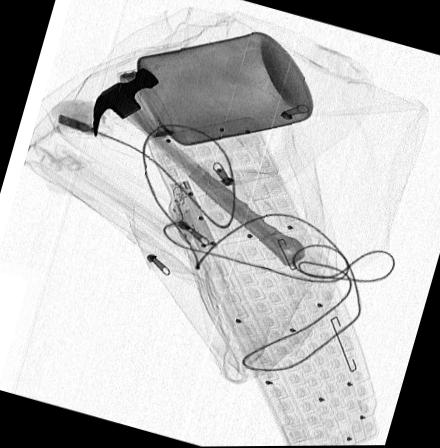Hammer: (91, 67, 306, 266)
